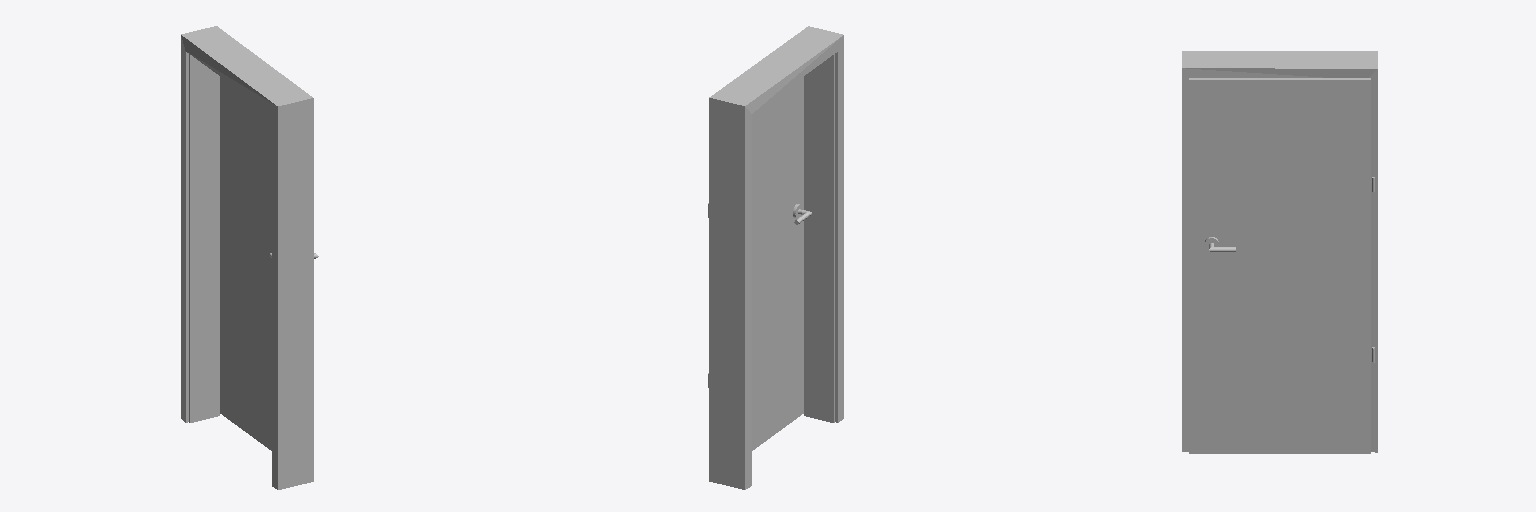
File: door120.obj
The picture shows the model from 3 angles: view 1: azimuth 30°, elevation 25°; view 2: azimuth 150°, elevation 25°; view 3: azimuth 270°, elevation 25°; orthographic projection.
Parts seen in each view (by area): view 1: Cylinder.005, Cylinder.001; view 2: Cylinder.005, Cylinder.001; view 3: Cylinder.001, Cylinder.005.
Part boxes in pixels (x1,y1,x2,y2): Cylinder.005: (181,26,313,489); Cylinder.001: (220,77,271,450); Cylinder.005: (708,26,843,489); Cylinder.001: (708,77,803,450); Cylinder.001: (1189,78,1374,453); Cylinder.005: (1182,51,1377,452).
Size of the model in its own units: 0.3039 by 2.05 by 0.95.